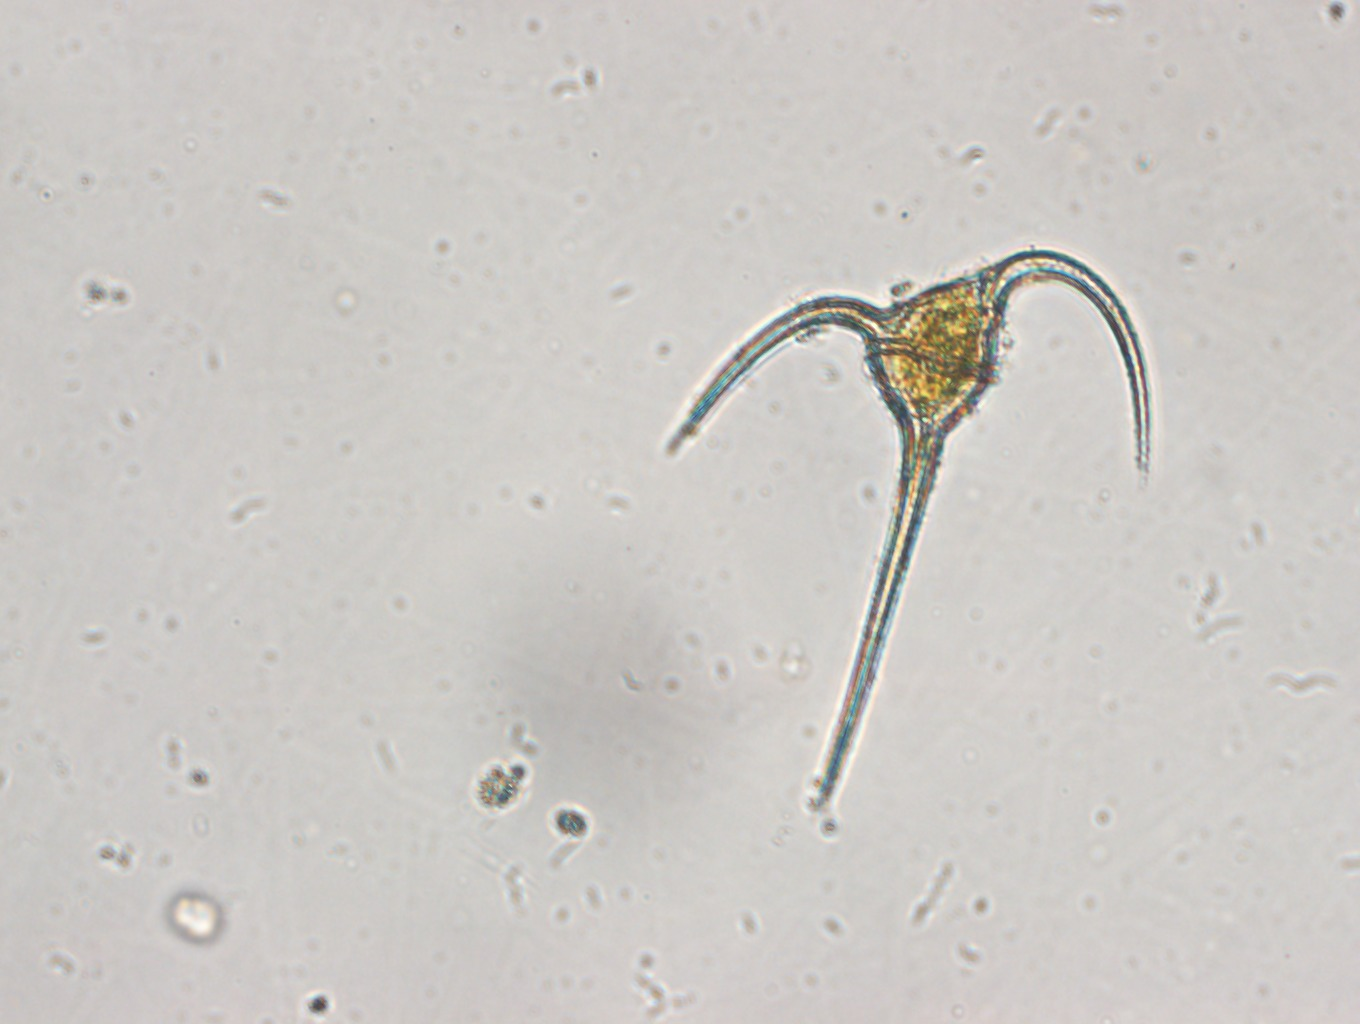ceratium trichoceros: (659, 241, 1160, 807)
